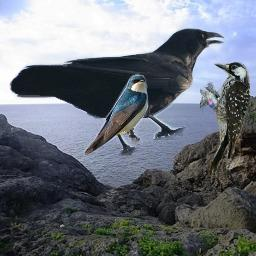Crow: (9, 27, 228, 156)
Swallow: (81, 72, 151, 156)
Woodpecker: (200, 62, 250, 177)
